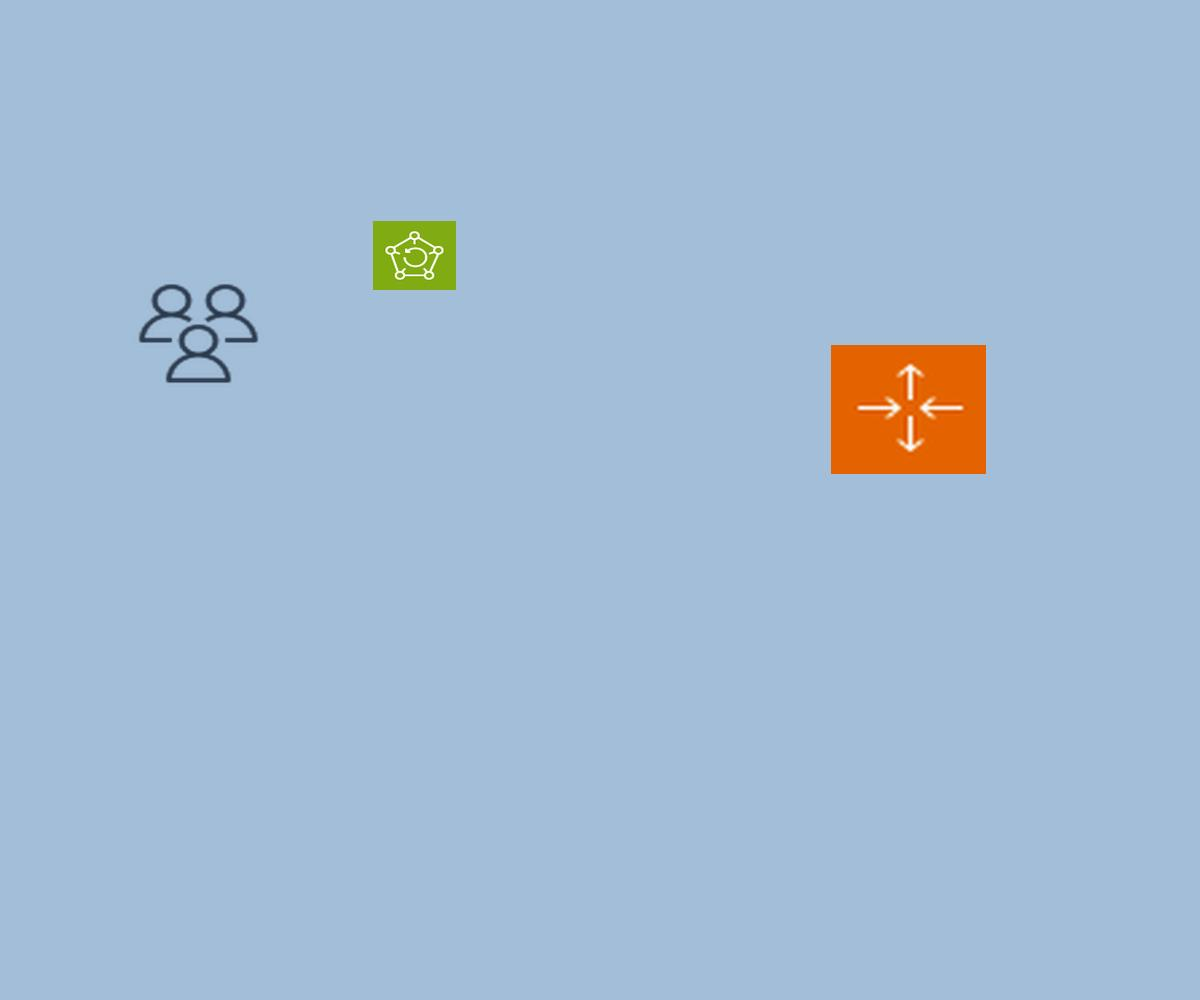AWS-Backup: (373, 221, 456, 290)
AWS-Res_Users: (134, 280, 263, 387)
AWS-Scaling-group: (831, 345, 986, 474)
